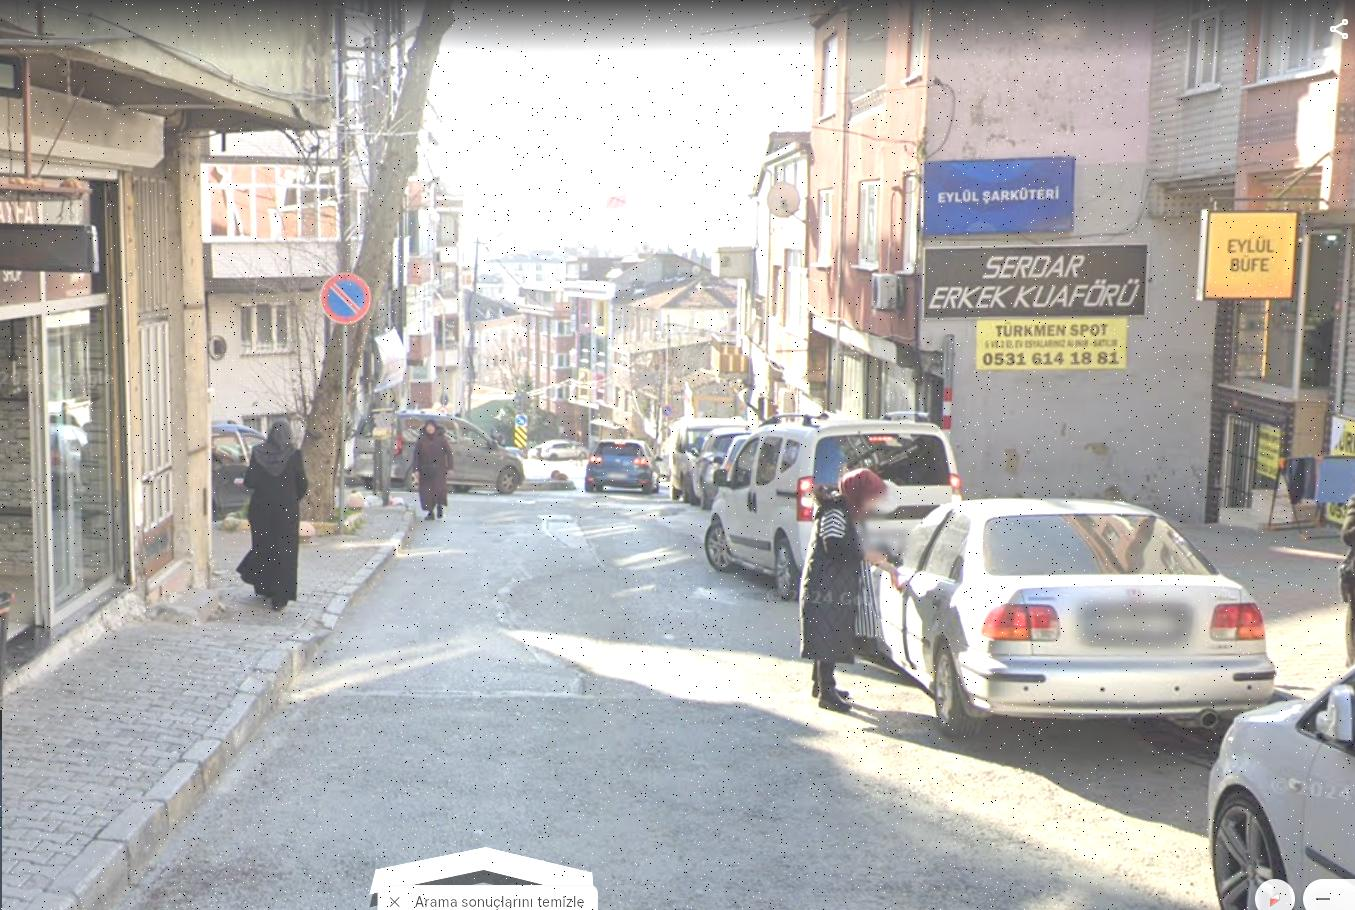nopark: (324, 274, 368, 322)
